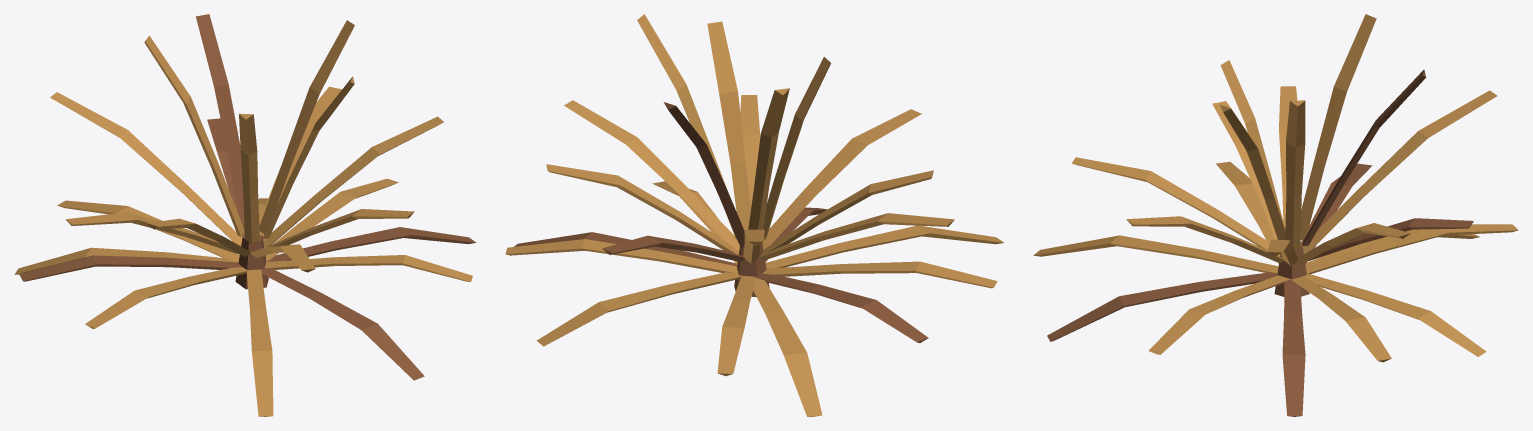
File: dry_frond_large.glb
3 views of the same model, side by side, from view 1: azimuth 30°, elevation 25°; view 2: azimuth 150°, elevation 25°; view 3: azimuth 270°, elevation 25° (orthographic). The views are drawn at different scales.
Visible parts, largest first — view 1: dry_frond_large; view 2: dry_frond_large; view 3: dry_frond_large.
Boxes of the visible parts, bbox=[...] form: dry_frond_large: bbox=[14, 14, 476, 416]; dry_frond_large: bbox=[505, 14, 1004, 416]; dry_frond_large: bbox=[1033, 14, 1518, 416].
Bounding box in the file's own units: 1.3 × 0.7619 × 1.26.
